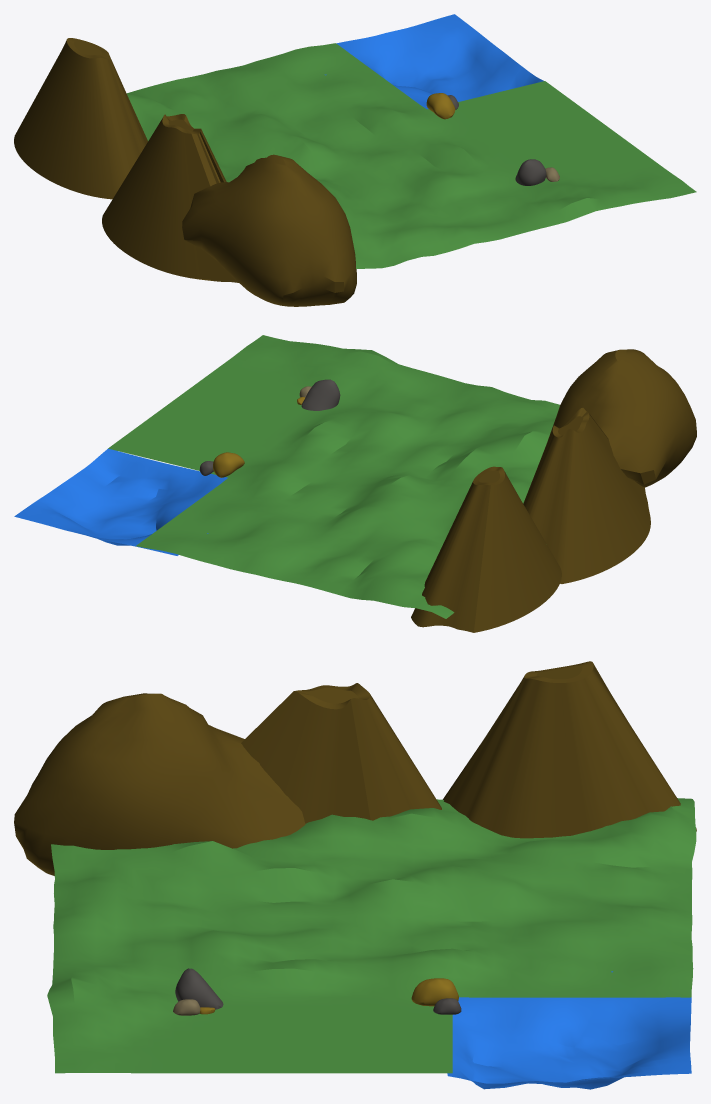
File: world.fbx
3 views of the same model, one above another, from view 1: azimuth 30°, elevation 25°; view 2: azimuth 150°, elevation 25°; view 3: azimuth 270°, elevation 25° (orthographic). The views are drawn at different scales.
Parts seen in each view (by area): view 1: Plane, Sphere, Cylinder, Cylinder.001, Plane.001, Sphere.003, Sphere.001; view 2: Plane, Cylinder, Cylinder.001, Sphere, Plane.001, Sphere.003, Sphere.001; view 3: Plane, Sphere, Cylinder, Plane.001, Cylinder.001, Sphere.003, Sphere.001.
Part boxes in pixels (x1,y1,x2,y2): Plane: (126, 43, 696, 268); Sphere: (182, 154, 356, 306); Cylinder: (14, 38, 147, 199); Cylinder.001: (102, 114, 238, 282); Plane.001: (324, 14, 543, 109); Sphere.003: (515, 159, 546, 185); Sphere.001: (426, 93, 455, 119); Plane: (108, 335, 559, 618); Cylinder: (411, 466, 561, 632); Cylinder.001: (523, 408, 650, 583); Sphere: (548, 349, 696, 487); Plane.001: (14, 448, 227, 555); Sphere.003: (301, 379, 340, 410); Sphere.001: (213, 452, 244, 477); Plane: (47, 798, 696, 1073); Sphere: (14, 693, 305, 875); Cylinder: (443, 661, 696, 838); Plane.001: (447, 971, 691, 1089); Cylinder.001: (241, 683, 441, 823); Sphere.003: (175, 968, 223, 1009); Sphere.001: (411, 978, 458, 1006).
Bounding box in the file's own units: 12708 × 3626 × 12207.
